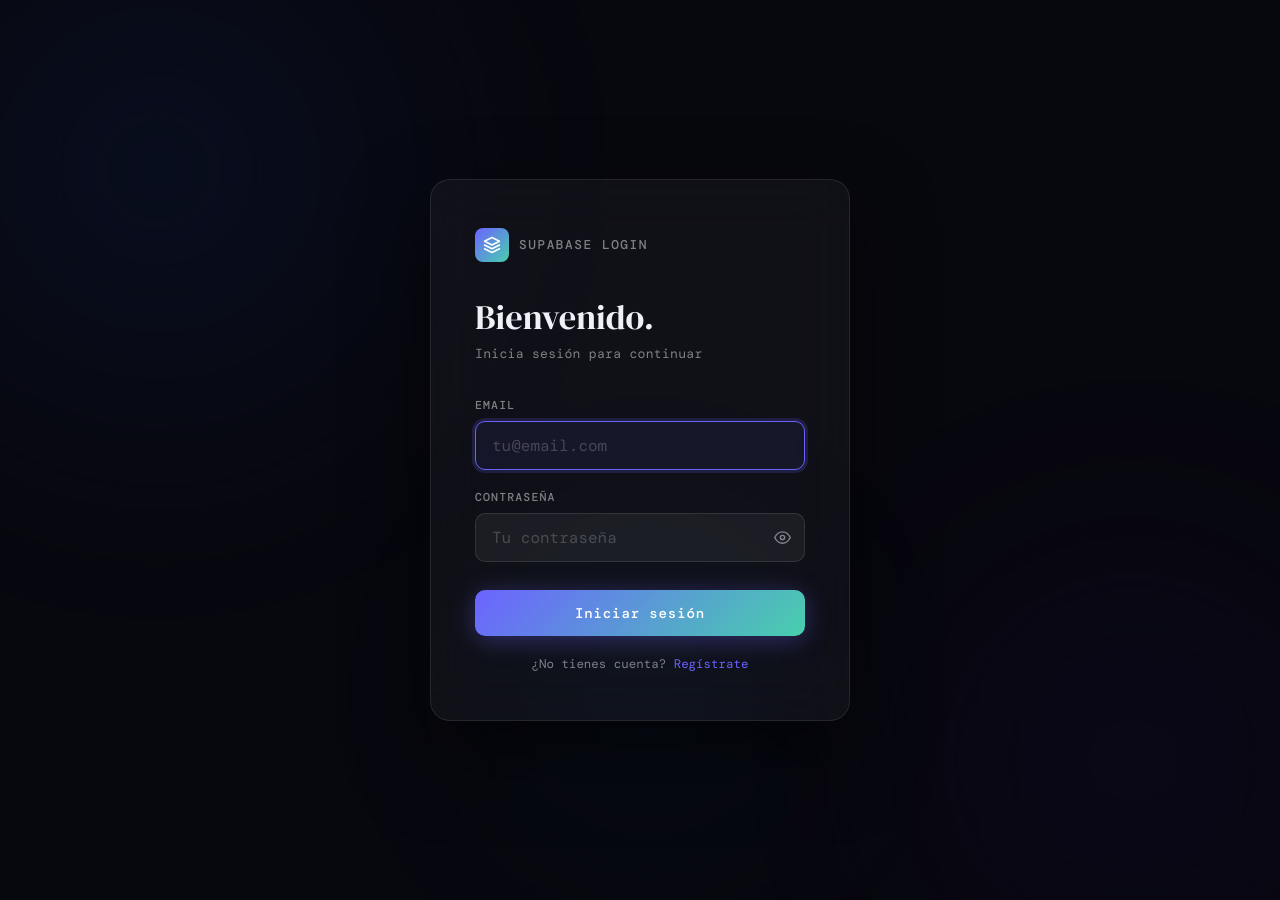
LoginForm › muestra un mensaje de error si las credenciales son incorrectas
This screenshot has width=1280, height=900.
Type "wrong@user.com" into the field labelled "Email" at coordinates (640, 446), box [475, 421, 805, 470]
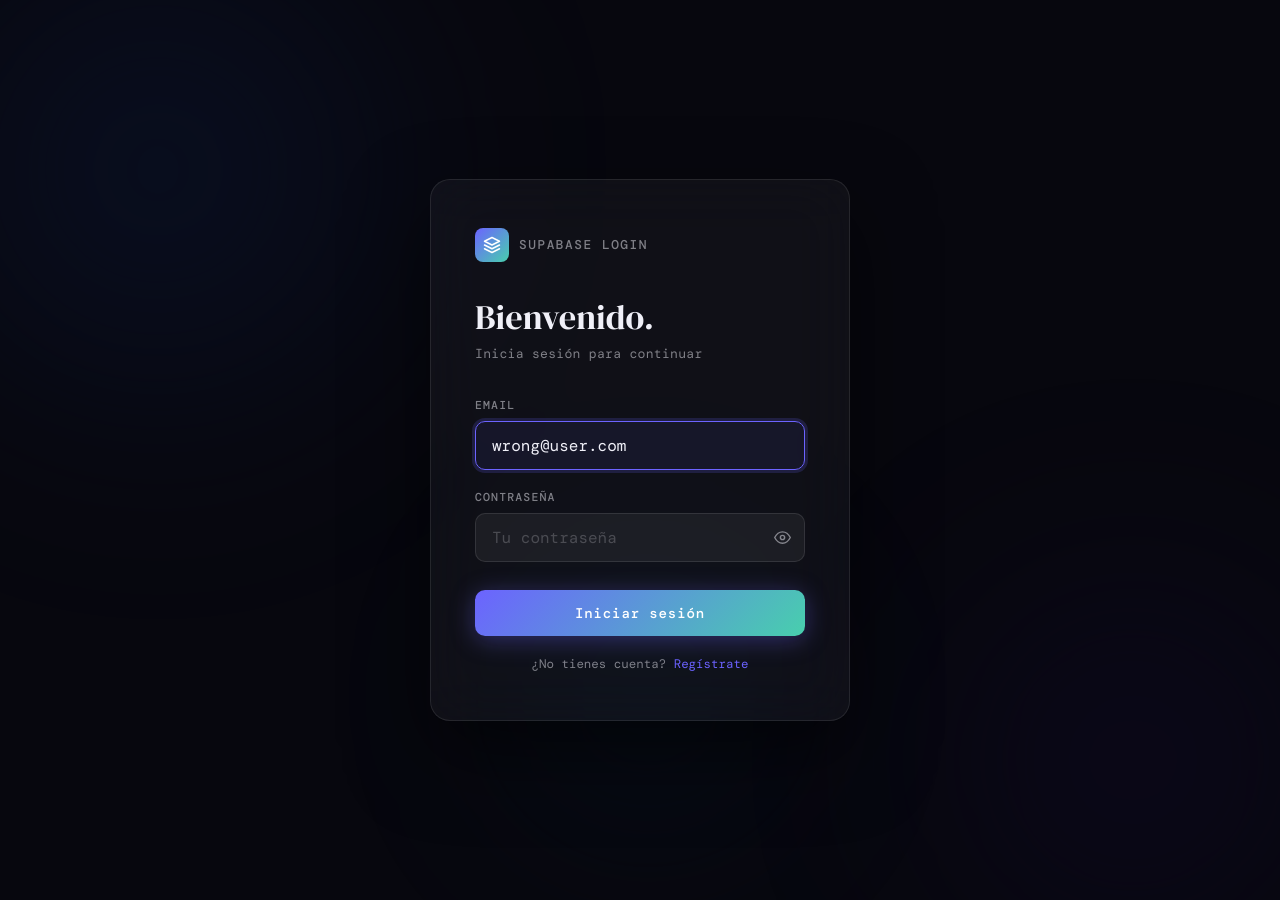
Type "wrongpass" into the password field labelled "Contraseña" at coordinates (640, 538), box [475, 513, 805, 562]
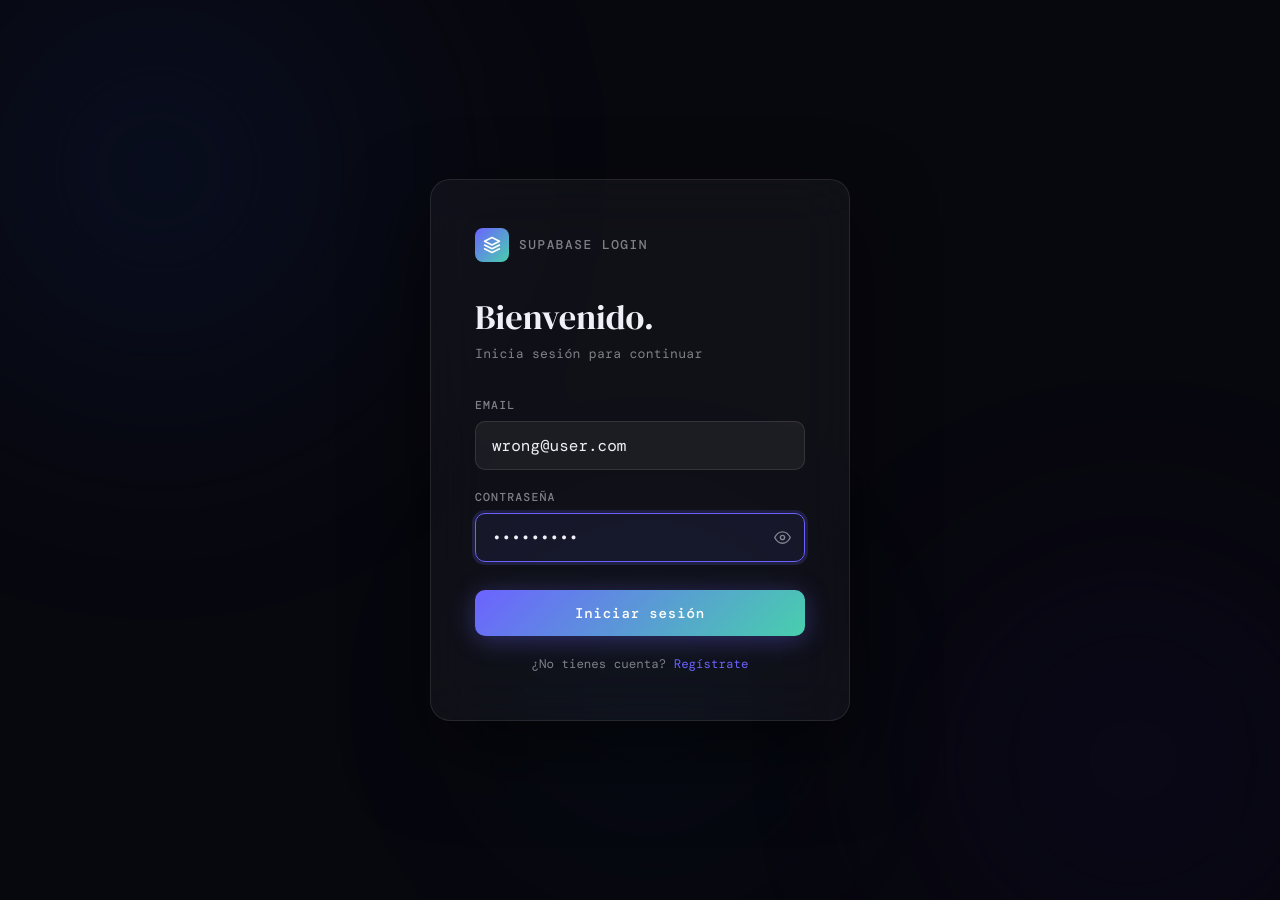
Click the button "Iniciar sesión" at coordinates (640, 613), box [475, 590, 805, 636]
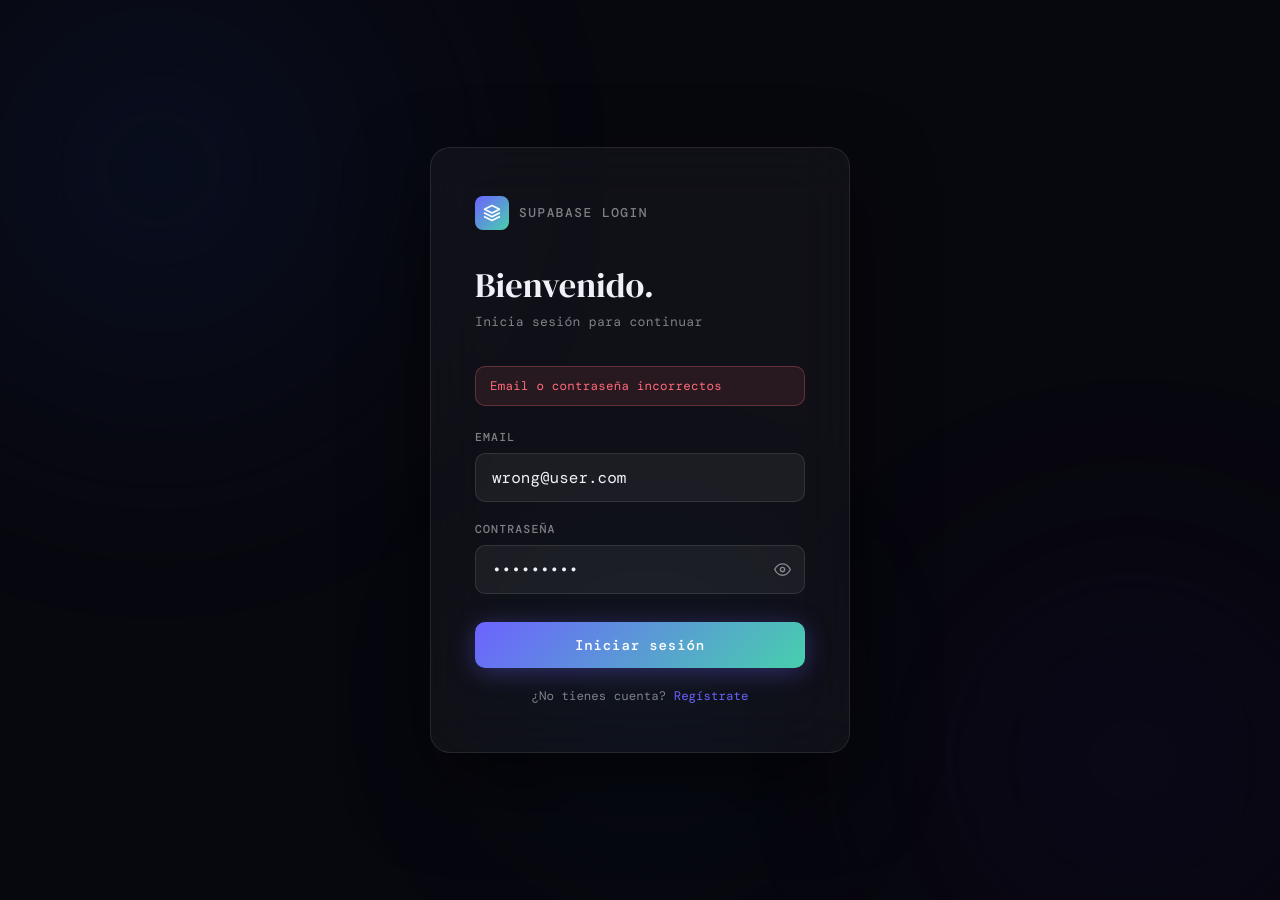
Expected: the text "Email o contraseña incorrectos" is shown, [475, 366, 805, 406]
